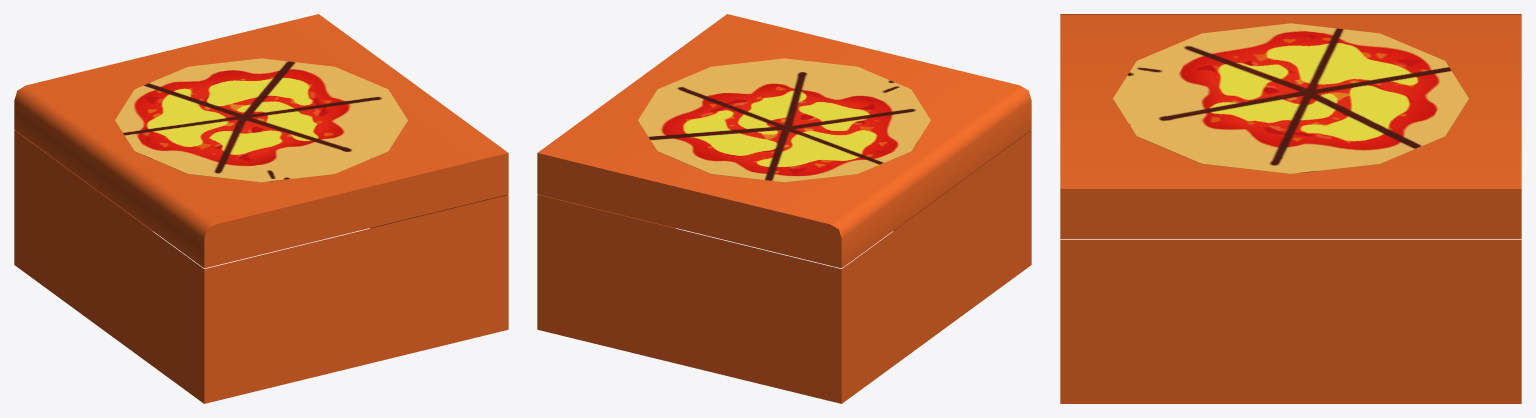
Rendered from thung nguyen lieu wooden.FBX.
The picture shows the model from 3 angles, left to right: view 1: azimuth 30°, elevation 25°; view 2: azimuth 150°, elevation 25°; view 3: azimuth 270°, elevation 25°; orthographic projection. The views are drawn at different scales.
Parts seen in each view (by area): view 1: thung dung nguyen lieu; view 2: thung dung nguyen lieu; view 3: thung dung nguyen lieu.
Boxes of the visible parts, <box> form: thung dung nguyen lieu: <box>14,14,508,403</box>; thung dung nguyen lieu: <box>537,14,1031,403</box>; thung dung nguyen lieu: <box>1060,14,1521,403</box>.
Size of the model in its own units: 2.28 by 1.27 by 2.47.
